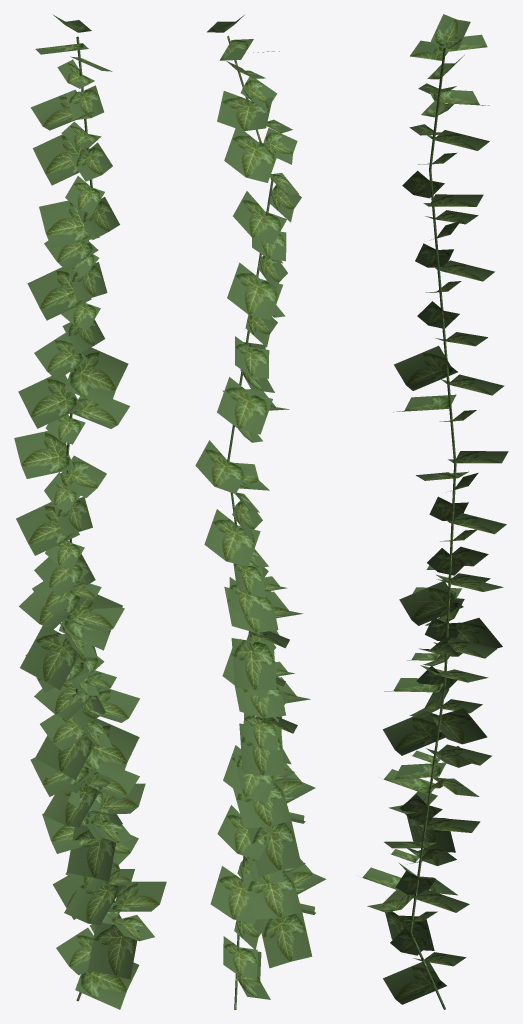
Rendered from Long_Branch1.FBX.
3 renders of one model, left to right at view 1: azimuth 90°, elevation 25°; view 2: azimuth 150°, elevation 25°; view 3: azimuth 270°, elevation 25°, orthographic.
Parts seen in each view (by area): view 1: Plane019; view 2: Plane019; view 3: Plane019.
Part boxes in pixels (x1,y1,x2,y2): Plane019: (14,15,166,1009); Plane019: (195,15,326,1009); Plane019: (362,14,508,1009).
Bounding box in the file's own units: 4.03 × 48.07 × 6.73.
